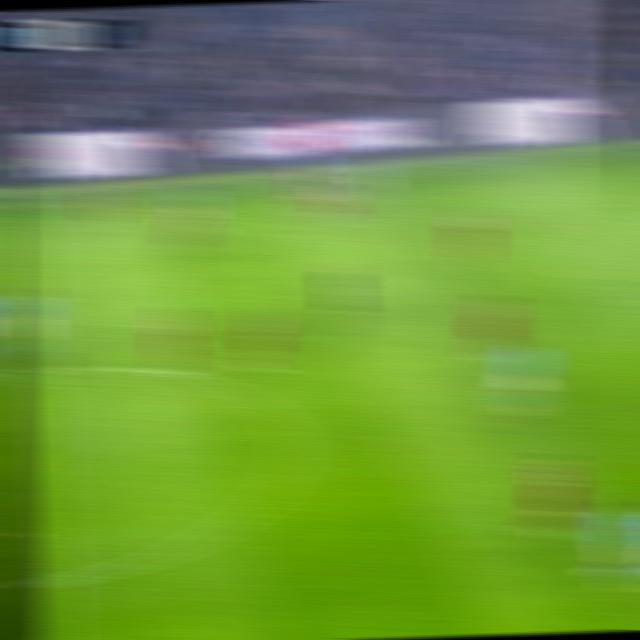halfcircle_bottom: (33, 558, 81, 600)
halfcircle_top: (18, 350, 68, 387)
midline_top_intersection: (12, 189, 55, 222)
